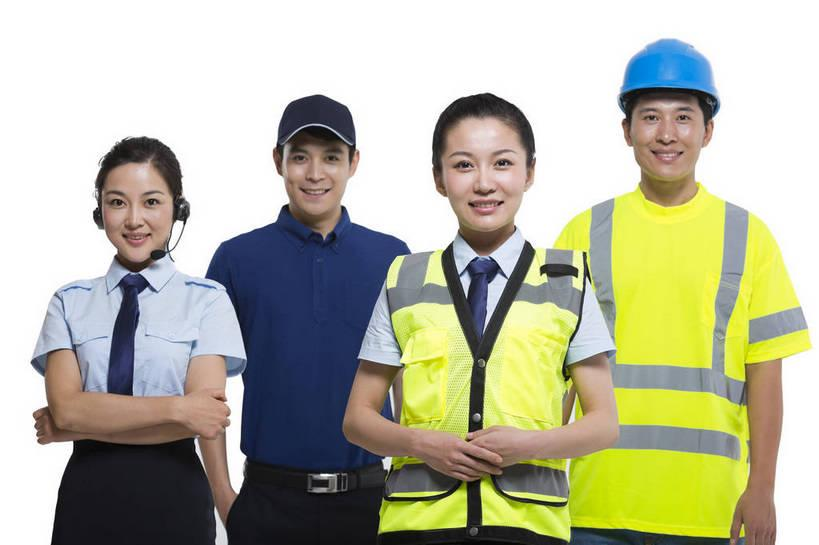helmet: (619, 42, 722, 106)
